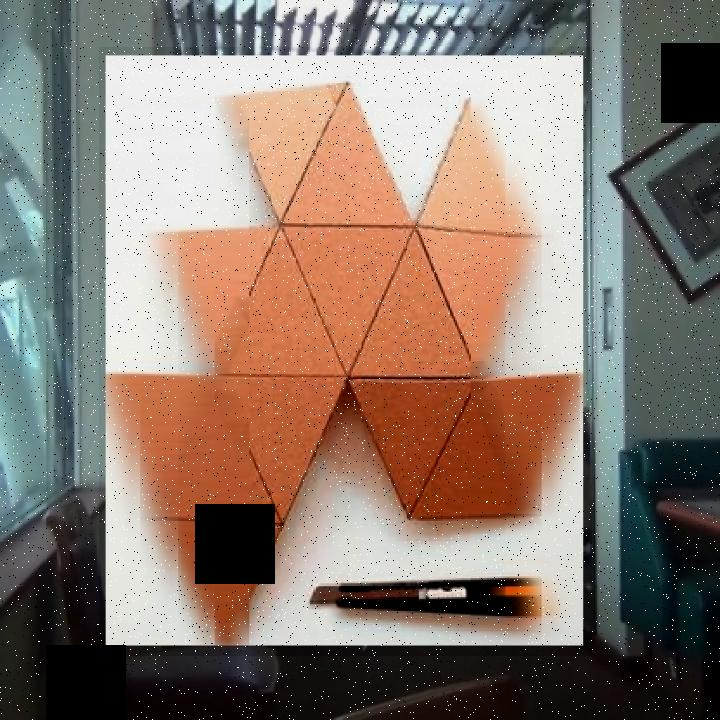box: (99, 47, 592, 656)
